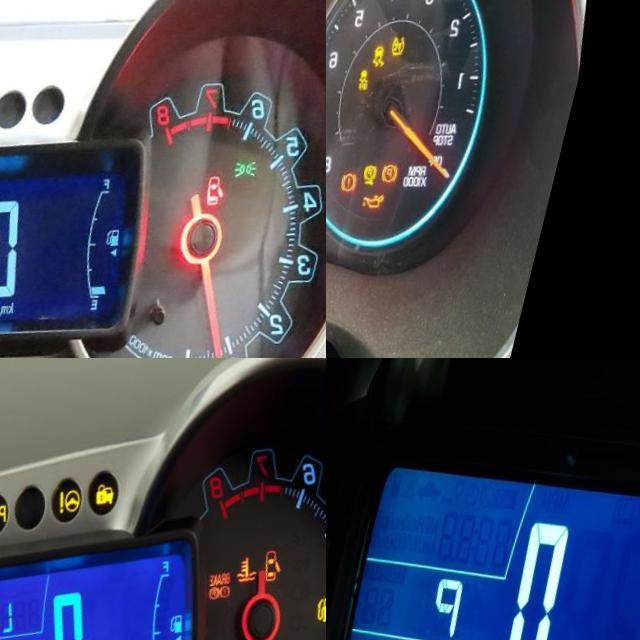Doors: (273, 540, 302, 575), (217, 165, 245, 199)
Engine cooling system: (246, 547, 277, 577)
SideLamp: (245, 149, 275, 172)
